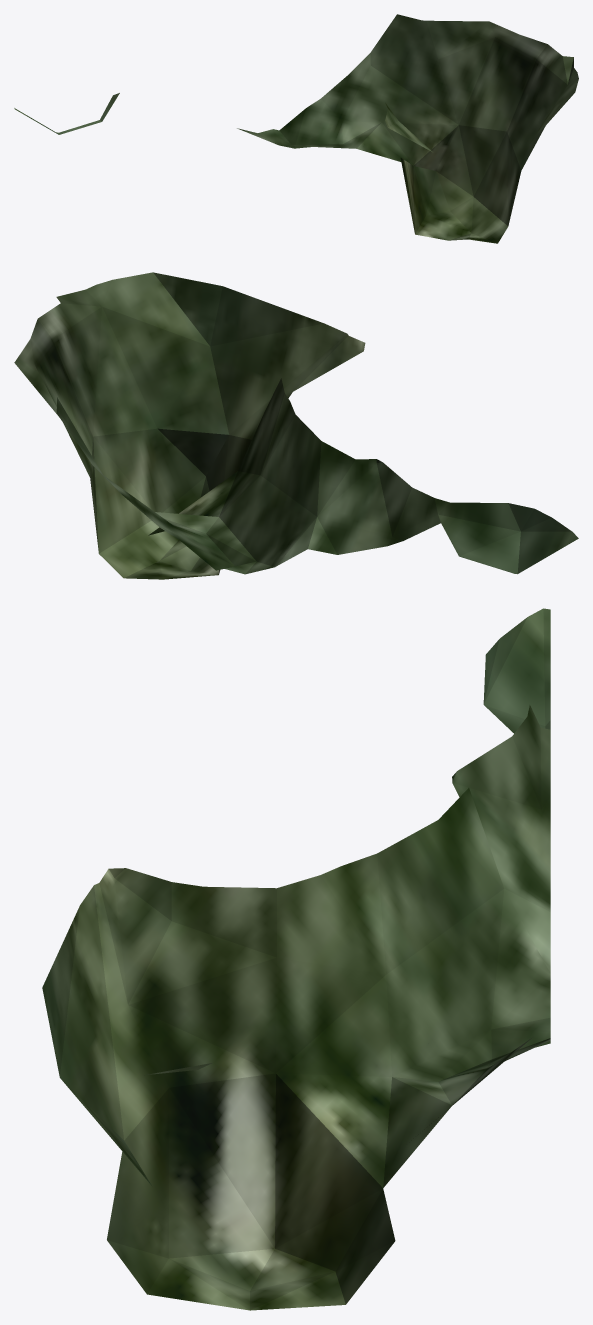
The picture shows the model from 3 angles, top to bottom: view 1: azimuth 30°, elevation 25°; view 2: azimuth 150°, elevation 25°; view 3: azimuth 270°, elevation 25°; orthographic projection. The views are drawn at different scales.
Size of the model in its own units: 1.57 by 0.5253 by 0.7311.
1 material, 1 textured.
